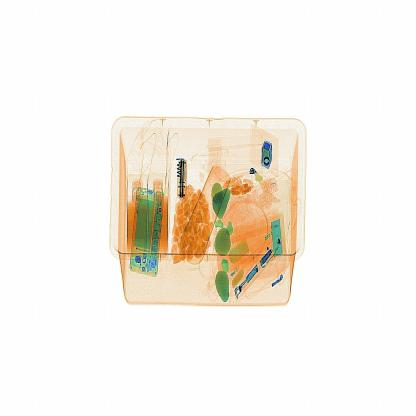scissors: (170, 155, 192, 205)
